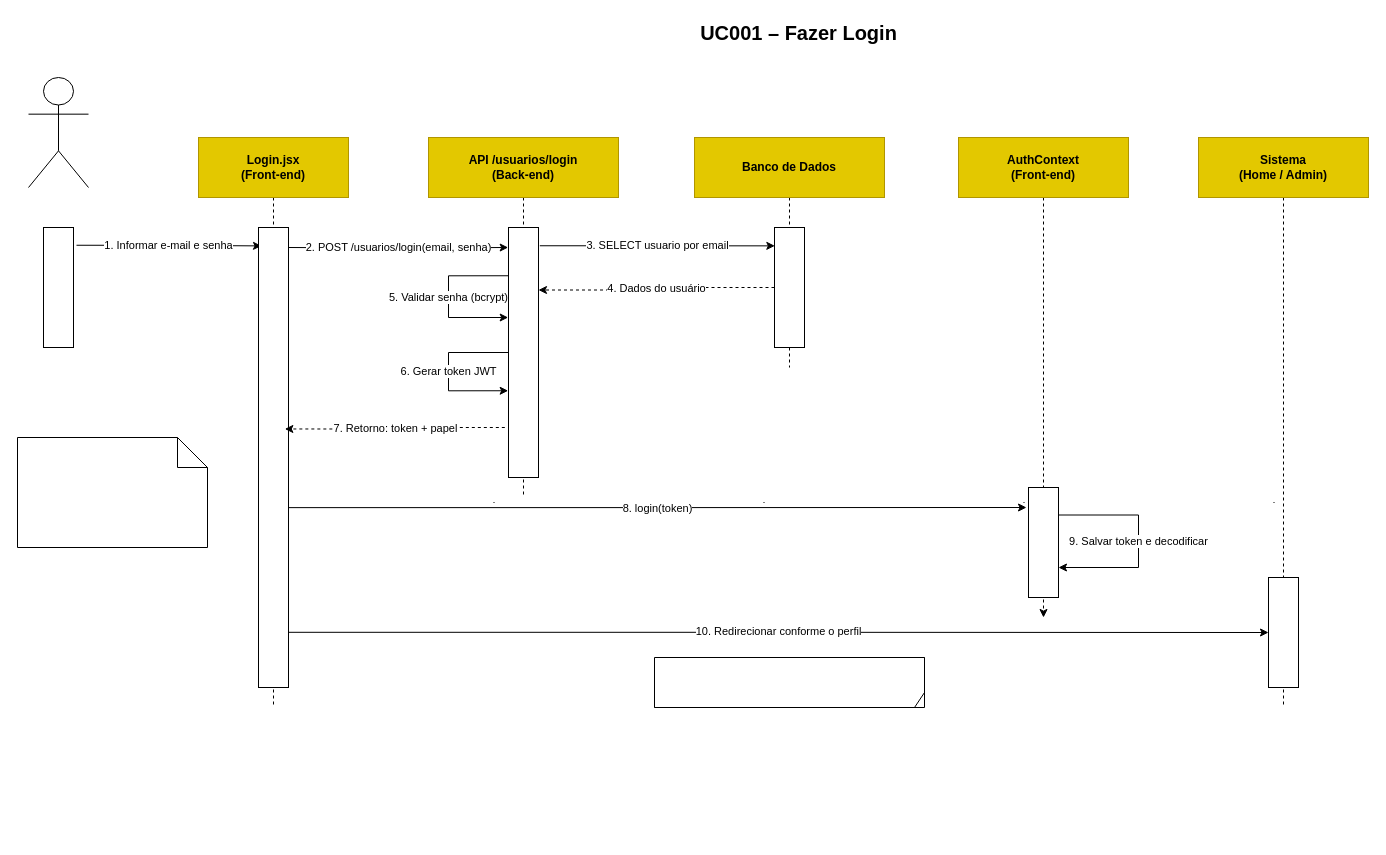
Some shapes in this 1386 by 855 pixel diagram are drawn without their labels. Here are the shapes that lost their labels. From the top down, the centre of each, then its label:
At point 58,132: "Usuário".
At point 112,492: "Exceção: credenciais inválidas → retornar erro e permanecer na tela de login.".
At point 789,682: "alt [papel = Administrador] → /admin [papel = Cliente] → /home".
